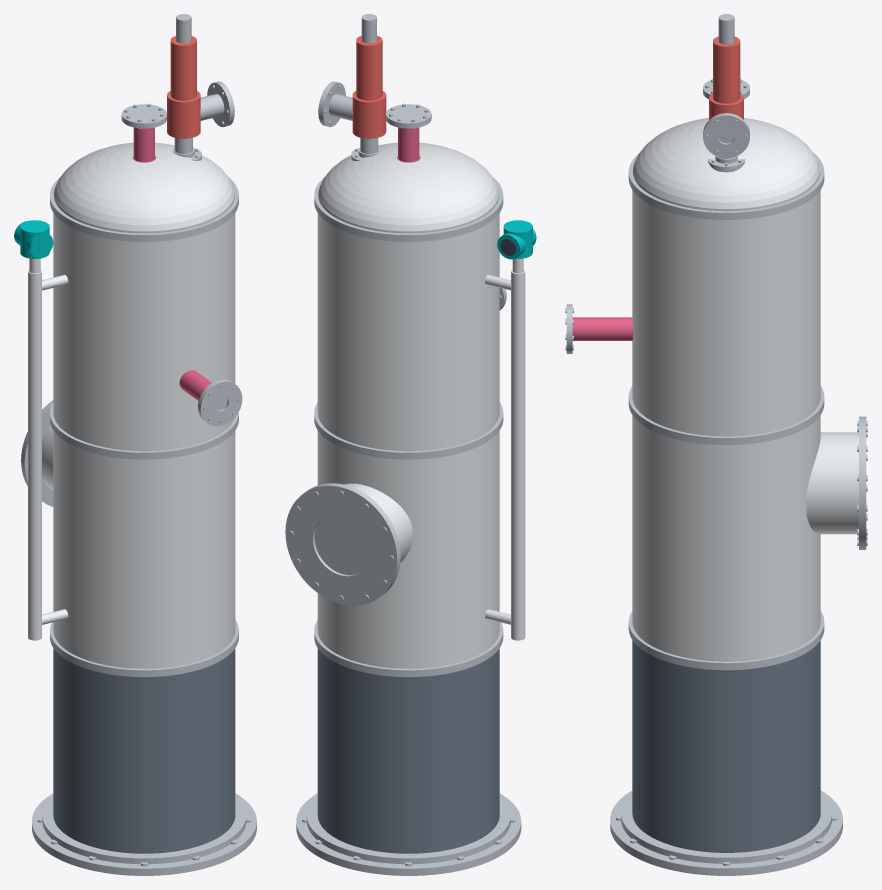
Rendered from V-300_HP_Knockout_Drum.glb.
3 views of the same model, side by side, from view 1: azimuth 30°, elevation 25°; view 2: azimuth 150°, elevation 25°; view 3: azimuth 270°, elevation 25° (orthographic). The views are drawn at different scales.
Visible parts, largest first — view 1: V-300_019__V300_316L_Pressure_Shell__SS316L_POLISHED, V-300_001__V300_Support_Skirt__STRUCTURAL_SLATE_IS800, V-300_021__V300_Top_2to1_Head__SS316L_POLISHED, V-300_002__V300_Shell_Seam_Ring__FLANGE_FORGED_SS, V-300_062__V300_Magnetic_Level_Bridle__SS316L_POLISHED, V-300_003__V300_Skirt_Anchor_Ring__FLANGE_FORGED_SS, V-300_004__V300_Skirt_Anchor_Ring_Neck__FLANGE_FORGED_SS, V-300_052__PSV_301_ASME_Relief_Valve_Bonnet__SAFETY_RED_VALV, V-300_023__V300_WetH2_Inlet_Flange__FLANGE_FORGED_SS, V-300_051__PSV_301_ASME_Relief_Valve_Body__SAFETY_RED_VALVE, V-300_066__LIT_301_SITRANS_LR110_Radar_Bezel__SIEMENS_PETROL, V-300_032__V300_Overhead_Gas_Flange__FLANGE_FORGED_SS (+6 smaller); view 2: V-300_019__V300_316L_Pressure_Shell__SS316L_POLISHED, V-300_001__V300_Support_Skirt__STRUCTURAL_SLATE_IS800, V-300_021__V300_Top_2to1_Head__SS316L_POLISHED, V-300_069__V300_Manway_Blind_Cover__FLANGE_FORGED_SS, V-300_002__V300_Shell_Seam_Ring__FLANGE_FORGED_SS, V-300_062__V300_Magnetic_Level_Bridle__SS316L_POLISHED, V-300_003__V300_Skirt_Anchor_Ring__FLANGE_FORGED_SS, V-300_004__V300_Skirt_Anchor_Ring_Neck__FLANGE_FORGED_SS, V-300_052__PSV_301_ASME_Relief_Valve_Bonnet__SAFETY_RED_VALV, V-300_051__PSV_301_ASME_Relief_Valve_Body__SAFETY_RED_VALVE, V-300_068__V300_Manway_Neck__SS316L_POLISHED, V-300_066__LIT_301_SITRANS_LR110_Radar_Bezel__SIEMENS_PETROL (+4 smaller); view 3: V-300_019__V300_316L_Pressure_Shell__SS316L_POLISHED, V-300_001__V300_Support_Skirt__STRUCTURAL_SLATE_IS800, V-300_021__V300_Top_2to1_Head__SS316L_POLISHED, V-300_002__V300_Shell_Seam_Ring__FLANGE_FORGED_SS, V-300_068__V300_Manway_Neck__SS316L_POLISHED, V-300_003__V300_Skirt_Anchor_Ring__FLANGE_FORGED_SS, V-300_004__V300_Skirt_Anchor_Ring_Neck__FLANGE_FORGED_SS, V-300_052__PSV_301_ASME_Relief_Valve_Bonnet__SAFETY_RED_VALV, V-300_055__PSV_301_ASME_Relief_Valve_OutletFlange__FLANGE_FO, V-300_022__V300_WetH2_Inlet_Nozzle__PIPING_H2_ROSE, V-300_069__V300_Manway_Blind_Cover__FLANGE_FORGED_SS.
Boxes of the visible parts, left/top/right/bottom form: V-300_019__V300_316L_Pressure_Shell__SS316L_POLISHED: left=53, top=213, right=235, bottom=668; V-300_001__V300_Support_Skirt__STRUCTURAL_SLATE_IS800: left=53, top=648, right=235, bottom=853; V-300_021__V300_Top_2to1_Head__SS316L_POLISHED: left=54, top=142, right=234, bottom=231; V-300_002__V300_Shell_Seam_Ring__FLANGE_FORGED_SS: left=50, top=177, right=238, bottom=677; V-300_062__V300_Magnetic_Level_Bridle__SS316L_POLISHED: left=28, top=272, right=41, bottom=640; V-300_003__V300_Skirt_Anchor_Ring__FLANGE_FORGED_SS: left=32, top=793, right=256, bottom=875; V-300_004__V300_Skirt_Anchor_Ring_Neck__FLANGE_FORGED_SS: left=42, top=796, right=246, bottom=864; V-300_052__PSV_301_ASME_Relief_Valve_Bonnet__SAFETY_RED_VALV: left=170, top=36, right=196, bottom=100; V-300_023__V300_WetH2_Inlet_Flange__FLANGE_FORGED_SS: left=198, top=379, right=242, bottom=426; V-300_051__PSV_301_ASME_Relief_Valve_Body__SAFETY_RED_VALVE: left=167, top=91, right=200, bottom=138; V-300_066__LIT_301_SITRANS_LR110_Radar_Bezel__SIEMENS_PETROL: left=14, top=220, right=53, bottom=258; V-300_032__V300_Overhead_Gas_Flange__FLANGE_FORGED_SS: left=121, top=104, right=166, bottom=128; V-300_019__V300_316L_Pressure_Shell__SS316L_POLISHED: left=317, top=213, right=499, bottom=668; V-300_001__V300_Support_Skirt__STRUCTURAL_SLATE_IS800: left=317, top=648, right=499, bottom=853; V-300_021__V300_Top_2to1_Head__SS316L_POLISHED: left=318, top=142, right=498, bottom=231; V-300_069__V300_Manway_Blind_Cover__FLANGE_FORGED_SS: left=285, top=483, right=400, bottom=605; V-300_002__V300_Shell_Seam_Ring__FLANGE_FORGED_SS: left=314, top=177, right=503, bottom=677; V-300_062__V300_Magnetic_Level_Bridle__SS316L_POLISHED: left=511, top=272, right=525, bottom=640; V-300_003__V300_Skirt_Anchor_Ring__FLANGE_FORGED_SS: left=296, top=793, right=521, bottom=875; V-300_004__V300_Skirt_Anchor_Ring_Neck__FLANGE_FORGED_SS: left=306, top=796, right=510, bottom=864; V-300_052__PSV_301_ASME_Relief_Valve_Bonnet__SAFETY_RED_VALV: left=356, top=35, right=382, bottom=100; V-300_051__PSV_301_ASME_Relief_Valve_Body__SAFETY_RED_VALVE: left=352, top=91, right=386, bottom=138; V-300_068__V300_Manway_Neck__SS316L_POLISHED: left=344, top=483, right=412, bottom=562; V-300_066__LIT_301_SITRANS_LR110_Radar_Bezel__SIEMENS_PETROL: left=497, top=220, right=536, bottom=259; V-300_019__V300_316L_Pressure_Shell__SS316L_POLISHED: left=632, top=190, right=820, bottom=661; V-300_001__V300_Support_Skirt__STRUCTURAL_SLATE_IS800: left=632, top=640, right=820, bottom=852; V-300_021__V300_Top_2to1_Head__SS316L_POLISHED: left=633, top=118, right=819, bottom=208; V-300_002__V300_Shell_Seam_Ring__FLANGE_FORGED_SS: left=628, top=153, right=824, bottom=670; V-300_068__V300_Manway_Neck__SS316L_POLISHED: left=806, top=432, right=858, bottom=534; V-300_003__V300_Skirt_Anchor_Ring__FLANGE_FORGED_SS: left=610, top=790, right=842, bottom=875; V-300_004__V300_Skirt_Anchor_Ring_Neck__FLANGE_FORGED_SS: left=621, top=793, right=831, bottom=863; V-300_052__PSV_301_ASME_Relief_Valve_Bonnet__SAFETY_RED_VALV: left=713, top=36, right=740, bottom=103; V-300_055__PSV_301_ASME_Relief_Valve_OutletFlange__FLANGE_FO: left=703, top=113, right=749, bottom=158; V-300_022__V300_WetH2_Inlet_Nozzle__PIPING_H2_ROSE: left=572, top=317, right=633, bottom=340; V-300_069__V300_Manway_Blind_Cover__FLANGE_FORGED_SS: left=859, top=416, right=866, bottom=549.
Size of the model in its own units: 1 by 3.51 by 1.16.
